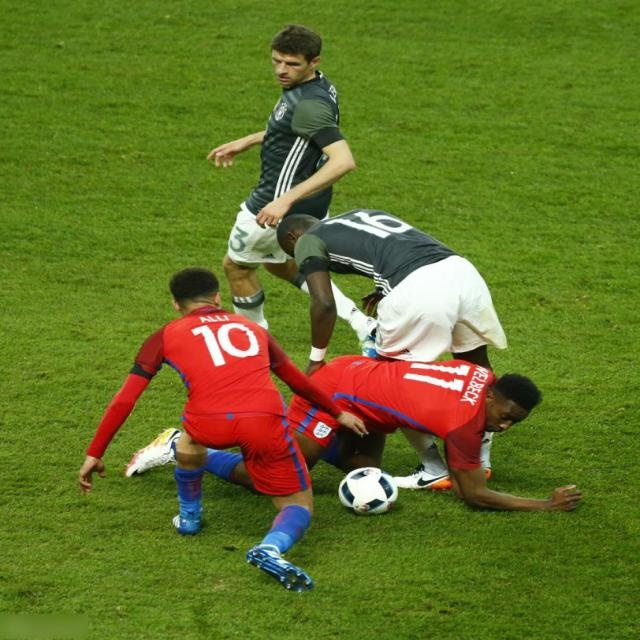obstacle: (195, 19, 349, 301)
